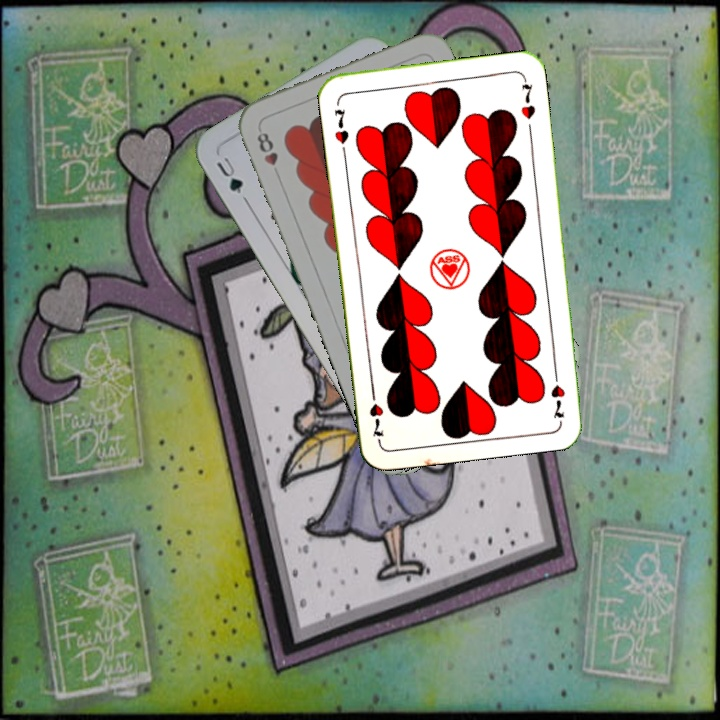GU: (212, 152, 246, 197)
H7: (547, 364, 568, 421), (330, 105, 352, 147)
H8: (253, 128, 283, 181)
